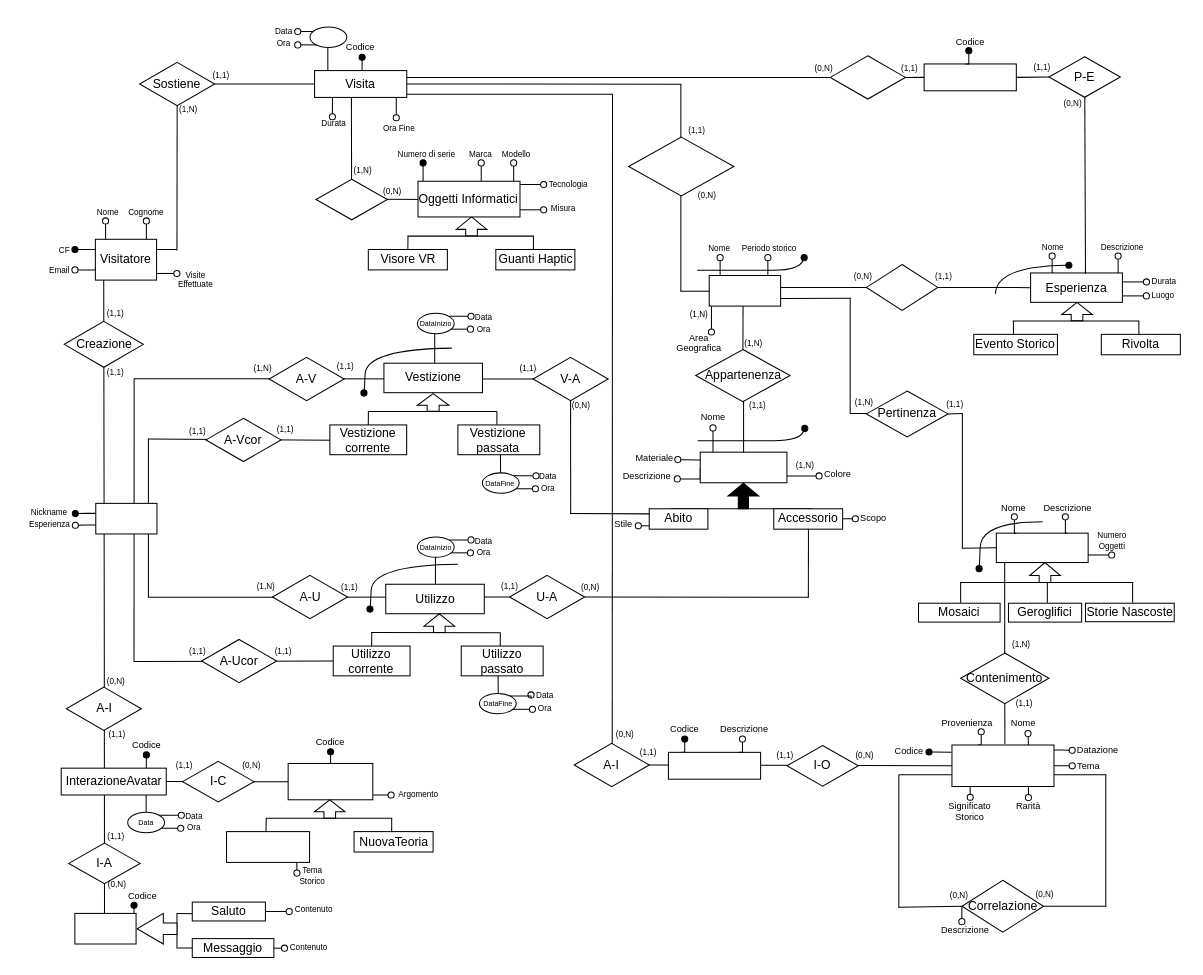
Some shapes in this 1203 by 975 pixel diagram are drawn without their labels. The centre of each missing label's shape, as x and y in pixels:
"A-P" goes at [867,77].
"Abbigliamento" goes at [743,467].
"Avatar" goes at [126,518].
"Azione" goes at [105,928].
"Civiltà" goes at [744,290].
"Collezione" goes at [1041,547].
"Conversazione" goes at [330,781].
"DataVisita" goes at [328,36].
"Discussione Virtuale" goes at [268,846].
"Esplorazione" goes at [681,166].
"Interazione" goes at [714,765].
"Offerta" goes at [901,286].
"Oggetto" goes at [1002,765].
"Partecipazione" goes at [969,77].
"Utilizza" goes at [351,199].
